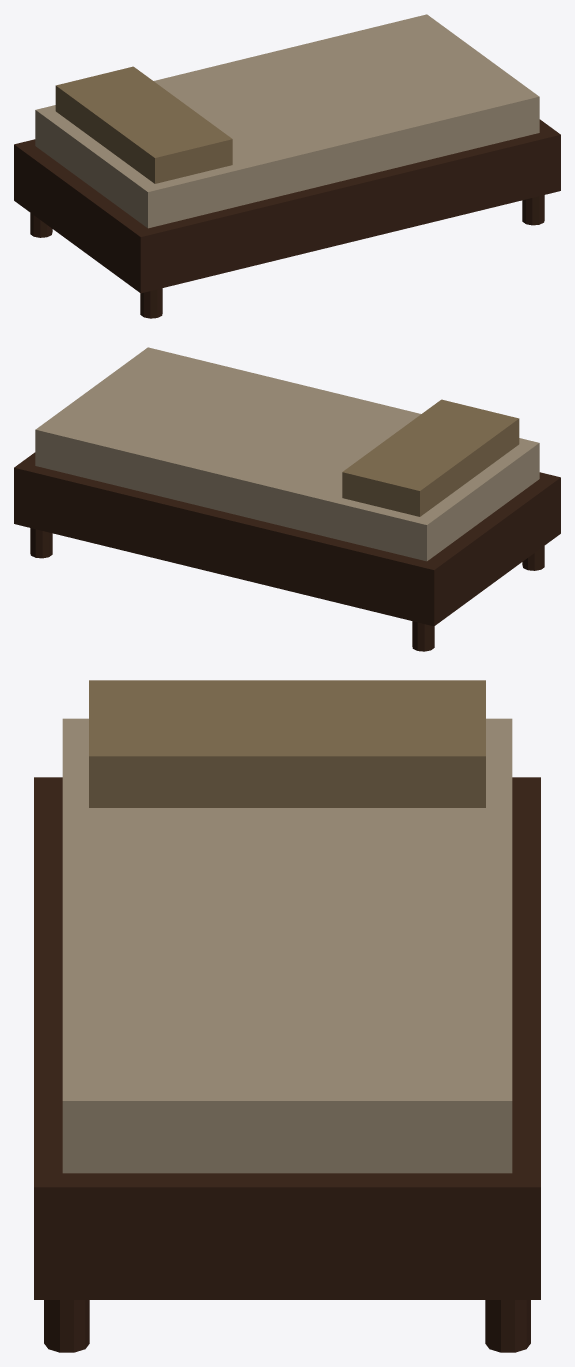
The model's file is GalakasMidCity_INT_Bed_RaioOversized_01.obj.
3 renders of one model, top to bottom at view 1: azimuth 30°, elevation 25°; view 2: azimuth 150°, elevation 25°; view 3: azimuth 270°, elevation 25°, orthographic. The views are drawn at different scales.
Parts seen in each view (by area): view 1: mattress, bed_frame, pillow, bedpost_-1_35_0_675, bedpost_1_35_0_675; view 2: mattress, bed_frame, pillow, bedpost_-1_35_-0_675, bedpost_1_35_-0_675; view 3: mattress, bed_frame, pillow, bedpost_1_35_-0_675, bedpost_1_35_0_675.
Part boxes in pixels (x1,y1,x2,y2): mattress: [35, 14, 539, 228]; bed_frame: [14, 119, 560, 293]; pillow: [55, 66, 232, 183]; bedpost_-1_35_0_675: [140, 288, 162, 318]; bedpost_1_35_0_675: [522, 195, 544, 225]; mattress: [35, 347, 539, 561]; bed_frame: [14, 452, 560, 626]; pillow: [342, 399, 519, 516]; bedpost_-1_35_-0_675: [412, 621, 434, 651]; bedpost_1_35_-0_675: [30, 528, 52, 558]; mattress: [62, 718, 512, 1173]; bed_frame: [34, 777, 540, 1299]; pillow: [89, 680, 485, 807]; bedpost_1_35_-0_675: [485, 1300, 530, 1352]; bedpost_1_35_0_675: [44, 1300, 89, 1352].
Bounding box in the file's own units: 2.97 × 1.01 × 1.55.
